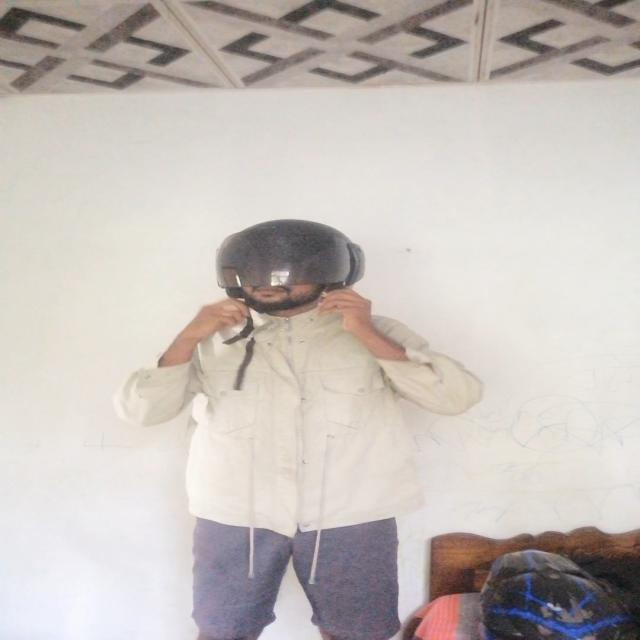Helmet_Wearer: (204, 216, 373, 326)
Jacket_Wearer: (132, 292, 477, 536)
Person: (112, 216, 494, 640)
